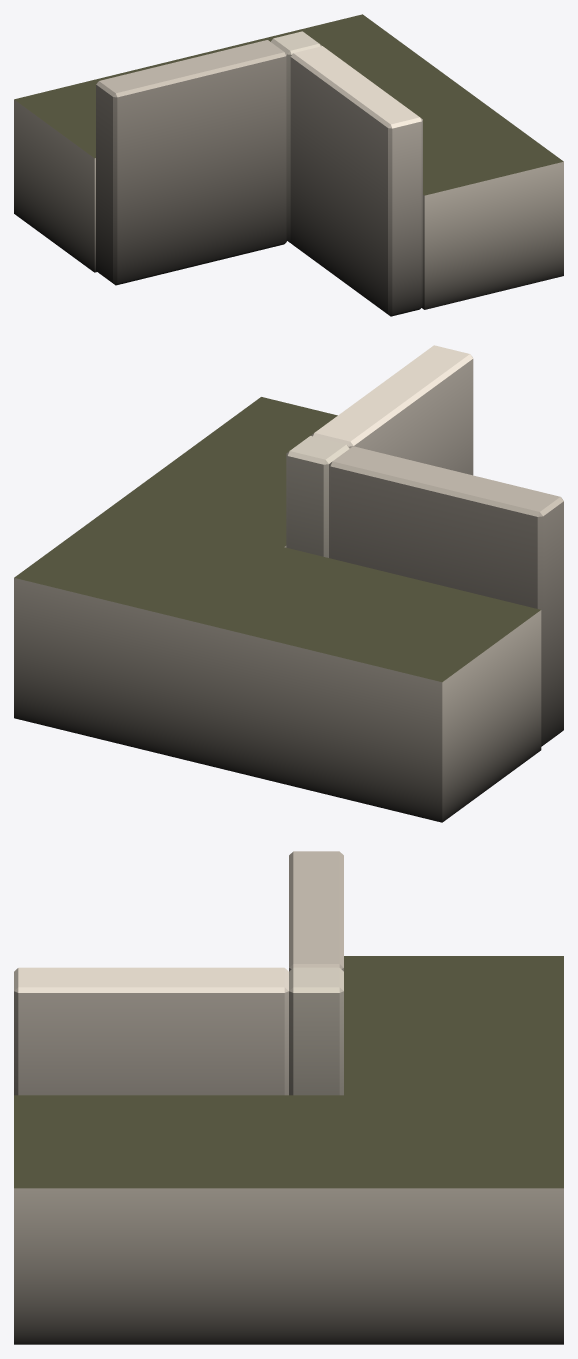
The model's file is SM_VKI_Ground_Sewer_OXXX.fbx.
3 views of the same model, one above another, from view 1: azimuth 30°, elevation 25°; view 2: azimuth 150°, elevation 25°; view 3: azimuth 270°, elevation 25° (orthographic). The views are drawn at different scales.
Visible parts, largest first — view 1: SM_VKI_Ground_Sewer_OXXX.001; view 2: SM_VKI_Ground_Sewer_OXXX.001; view 3: SM_VKI_Ground_Sewer_OXXX.001.
Part boxes in pixels (left/top/right/bottom): SM_VKI_Ground_Sewer_OXXX.001: left=14, top=14, right=563, bottom=316; SM_VKI_Ground_Sewer_OXXX.001: left=14, top=345, right=563, bottom=822; SM_VKI_Ground_Sewer_OXXX.001: left=14, top=851, right=563, bottom=1344.
Size of the model in its own units: 1.5 by 0.79 by 1.5.
